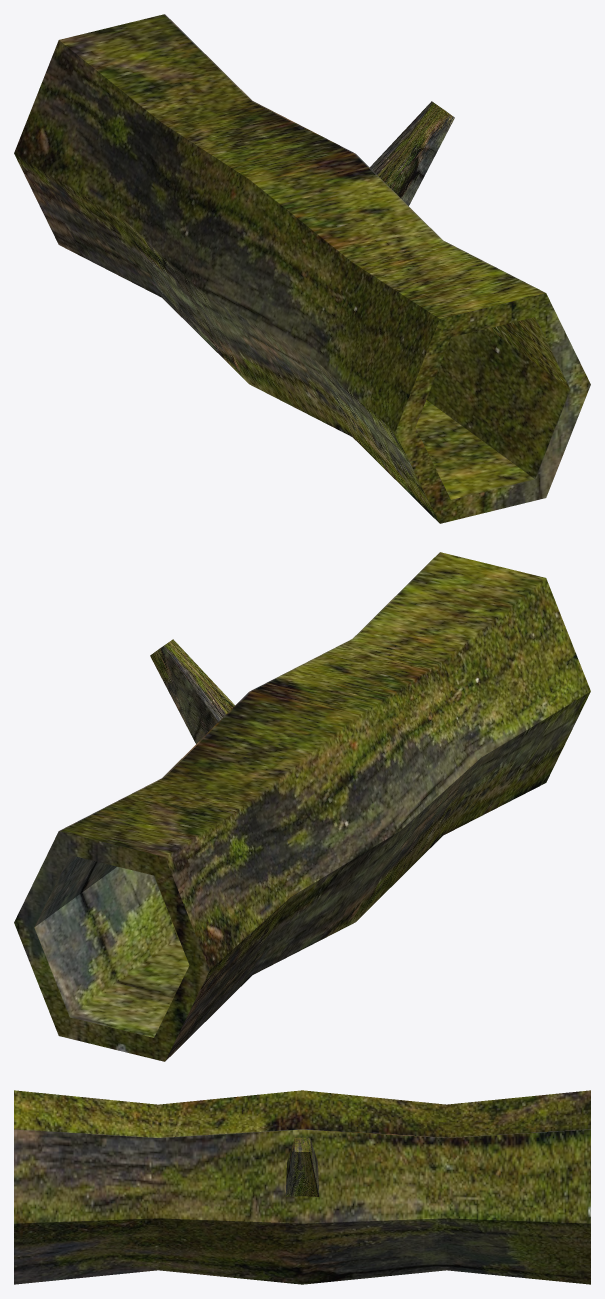
Rendered from Log.fbx.
The picture shows the model from 3 angles, top to bottom: view 1: azimuth 30°, elevation 25°; view 2: azimuth 150°, elevation 25°; view 3: azimuth 270°, elevation 25°; orthographic projection. The views are drawn at different scales.
Parts seen in each view (by area): view 1: Log; view 2: Log; view 3: Log.
Boxes of the visible parts, x1,y1,x2,y2 form: Log: (14,14,590,523); Log: (14,552,590,1061); Log: (14,1090,590,1284).
Size of the model in its own units: 472 by 429 by 1269.
